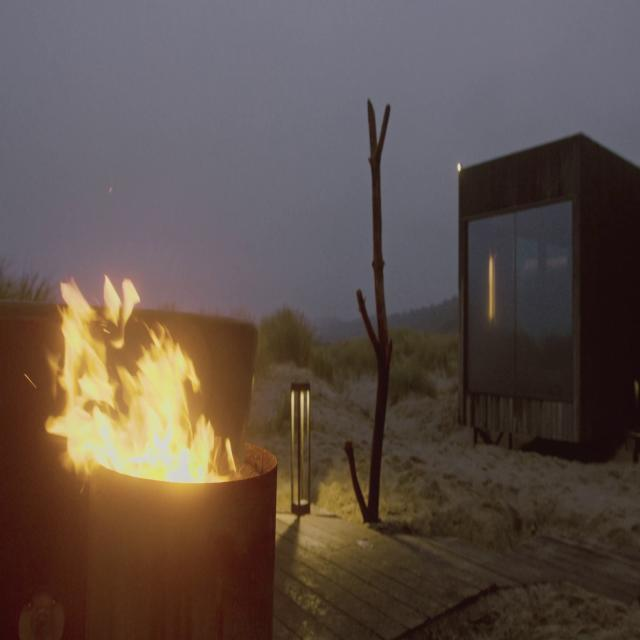Fire: (40, 268, 224, 490)
